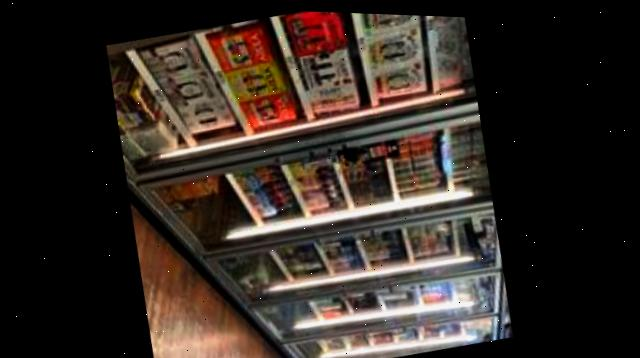background: (90, 3, 532, 358)
